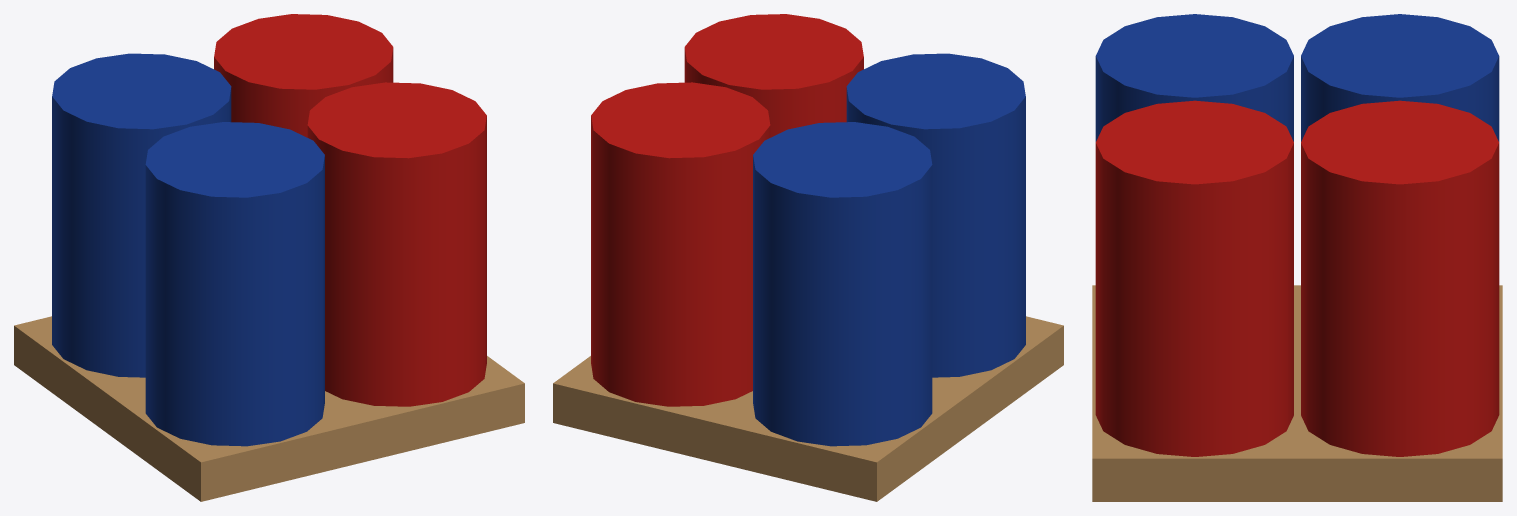
File: industrial.process.drums.glb
The picture shows the model from 3 angles, left to right: view 1: azimuth 30°, elevation 25°; view 2: azimuth 150°, elevation 25°; view 3: azimuth 270°, elevation 25°; orthographic projection. The views are drawn at different scales.
Parts seen in each view (by area): view 1: main__plastic_blue, main__hazard_red, main__softwood; view 2: main__plastic_blue, main__hazard_red, main__softwood; view 3: main__hazard_red, main__plastic_blue, main__softwood.
Part boxes in pixels (<box>): main__plastic_blue: <box>52,53,324,446</box>; main__hazard_red: <box>214,14,486,406</box>; main__softwood: <box>14,316,524,501</box>; main__plastic_blue: <box>753,53,1025,446</box>; main__hazard_red: <box>591,14,863,406</box>; main__softwood: <box>553,316,1063,501</box>; main__hazard_red: <box>1095,100,1499,456</box>; main__plastic_blue: <box>1095,14,1499,141</box>; main__softwood: <box>1092,285,1502,501</box>.
Bounding box in the file's own units: 1.2 × 1.02 × 1.2.
